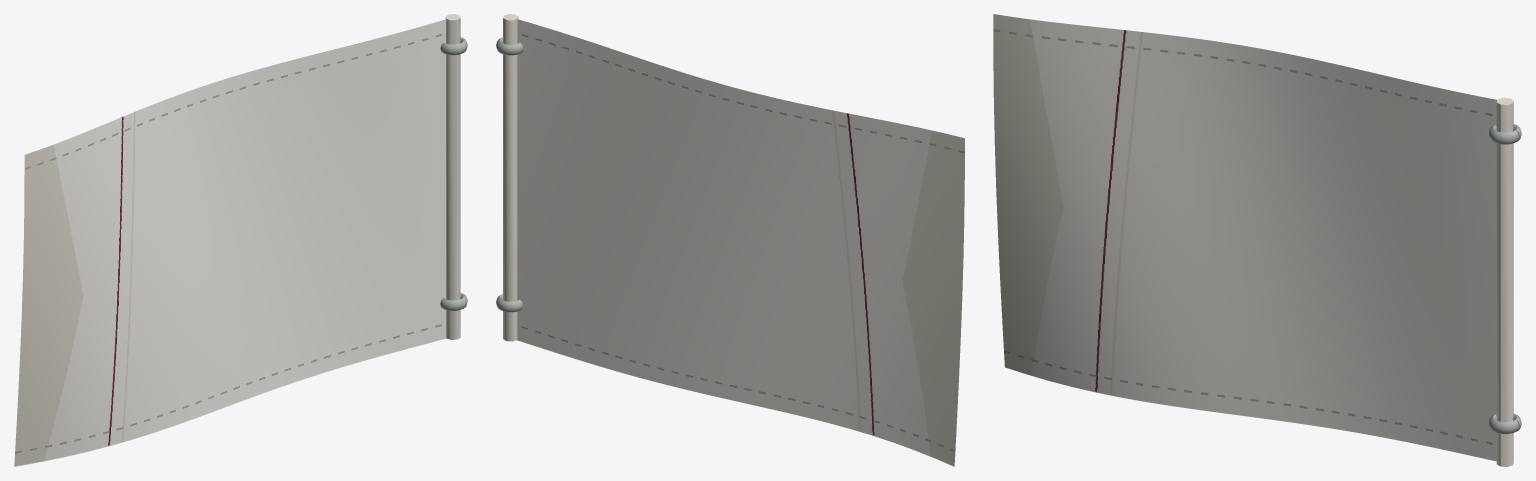
The model's file is Pennant_08_N_炭紺・白筋.glb.
3 renders of one model, left to right at view 1: azimuth 30°, elevation 25°; view 2: azimuth 150°, elevation 25°; view 3: azimuth 330°, elevation 25°, orthographic. The views are drawn at different scales.
Parts seen in each view (by area): view 1: Pennant_08_N; view 2: Pennant_08_N; view 3: Pennant_08_N.
Part boxes in pixels (left/top/right/bottom): Pennant_08_N: left=14, top=14, right=467, bottom=466; Pennant_08_N: left=496, top=14, right=964, bottom=466; Pennant_08_N: left=993, top=14, right=1521, bottom=466.
Size of the model in its own units: 0.267 by 0.1922 by 0.0195.
3 materials, 3 textured.
